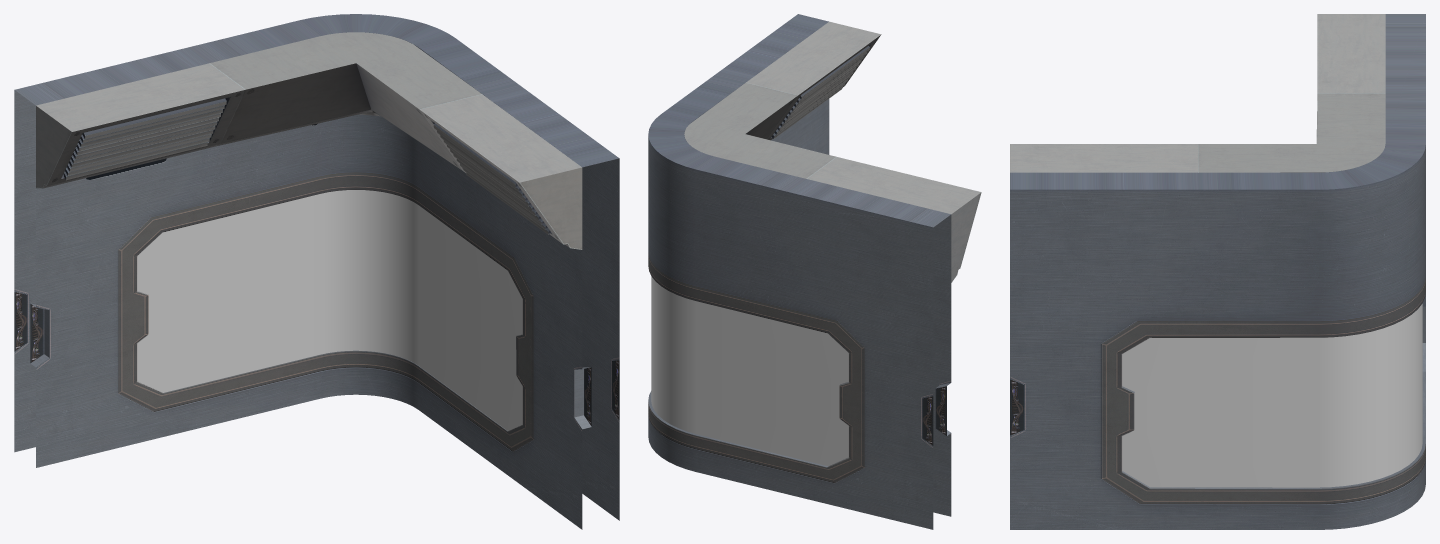
The model's file is DS_SM021_Scifi_Room_WallWindowCorner_01.fbx.
The picture shows the model from 3 angles, left to right: view 1: azimuth 30°, elevation 25°; view 2: azimuth 150°, elevation 25°; view 3: azimuth 270°, elevation 25°; orthographic projection. The views are drawn at different scales.
Visible parts, largest first — view 1: DS_SM021_Scifi_Room_WallWindowCorner_01; view 2: DS_SM021_Scifi_Room_WallWindowCorner_01; view 3: DS_SM021_Scifi_Room_WallWindowCorner_01.
Boxes of the visible parts, <box> form: DS_SM021_Scifi_Room_WallWindowCorner_01: <box>14,14,619,529</box>; DS_SM021_Scifi_Room_WallWindowCorner_01: <box>648,14,981,529</box>; DS_SM021_Scifi_Room_WallWindowCorner_01: <box>1010,14,1425,529</box>.
Bounding box in the file's own units: 886 × 800 × 886.
